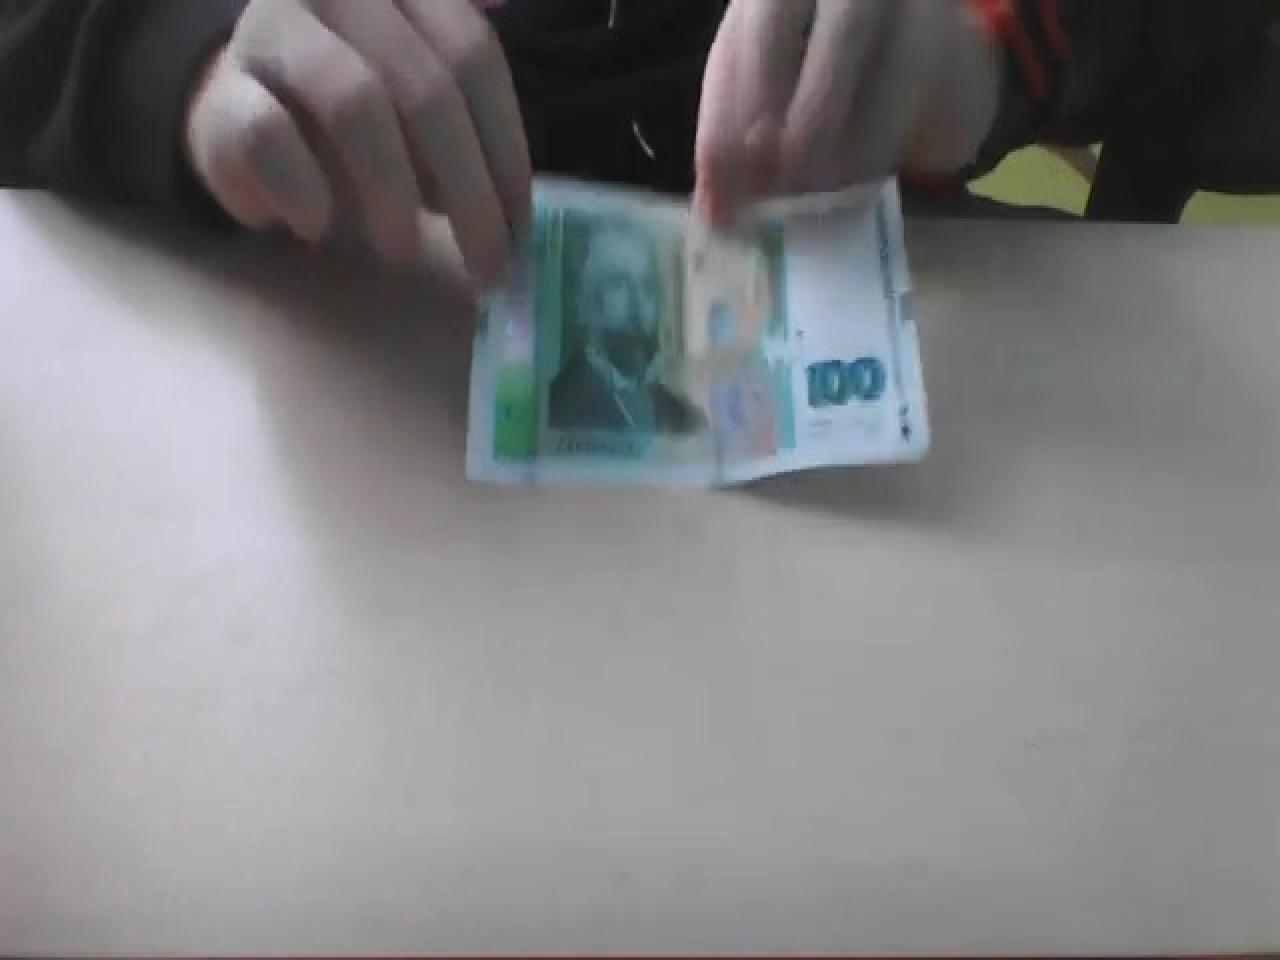100leva: (468, 176, 934, 491)
